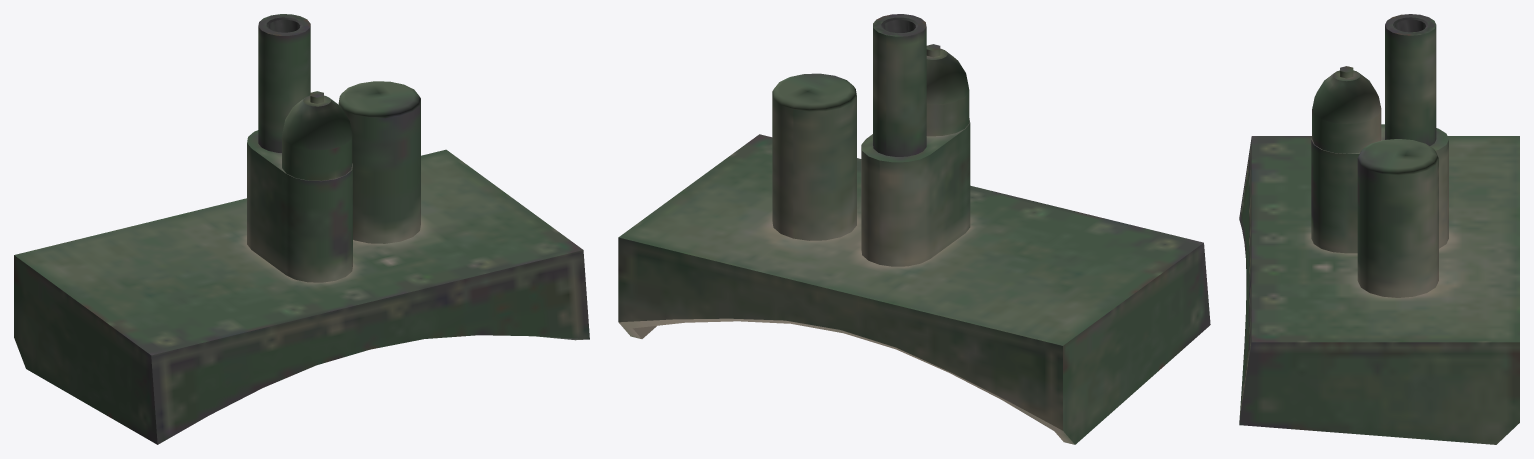
Rendered from Gun_04.glb.
3 renders of one model, left to right at view 1: azimuth 30°, elevation 25°; view 2: azimuth 150°, elevation 25°; view 3: azimuth 270°, elevation 25°, orthographic. The views are drawn at different scales.
Visible parts, largest first — view 1: set_0_group_0; view 2: set_0_group_0; view 3: set_0_group_0.
Part boxes in pixels (x1,y1,x2,y2): set_0_group_0: (14, 14, 589, 444); set_0_group_0: (618, 14, 1210, 444); set_0_group_0: (1239, 14, 1519, 444).
Size of the model in its own units: 0.7365 by 0.5269 by 0.4238.
Materials: 1 (1 with a texture image).
